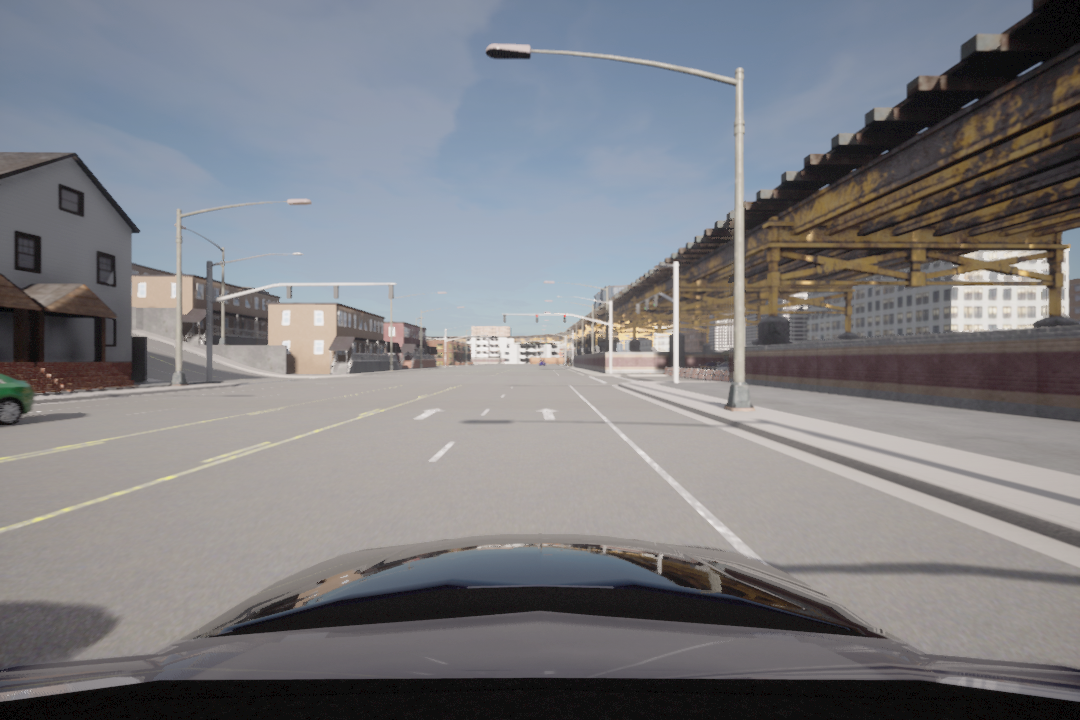RoadSign_forward: (412, 402, 446, 425), (534, 404, 563, 424)
